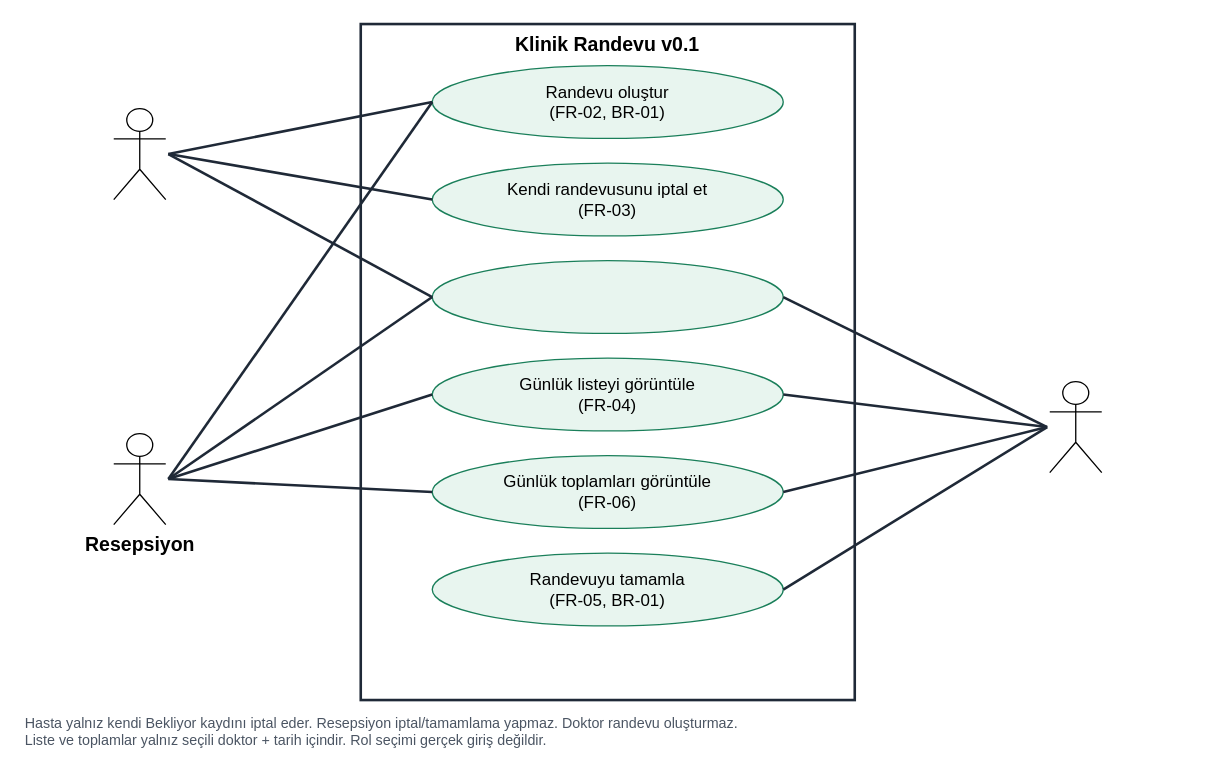
Some shapes in this 1214 by 775 pixel diagram are drawn without their labels. Each missing label, with the centre of its shape:
Doktor: (1075,426)
Hasta: (139,153)
Uygun saatleri görüntüle (FR-01): (607,296)
